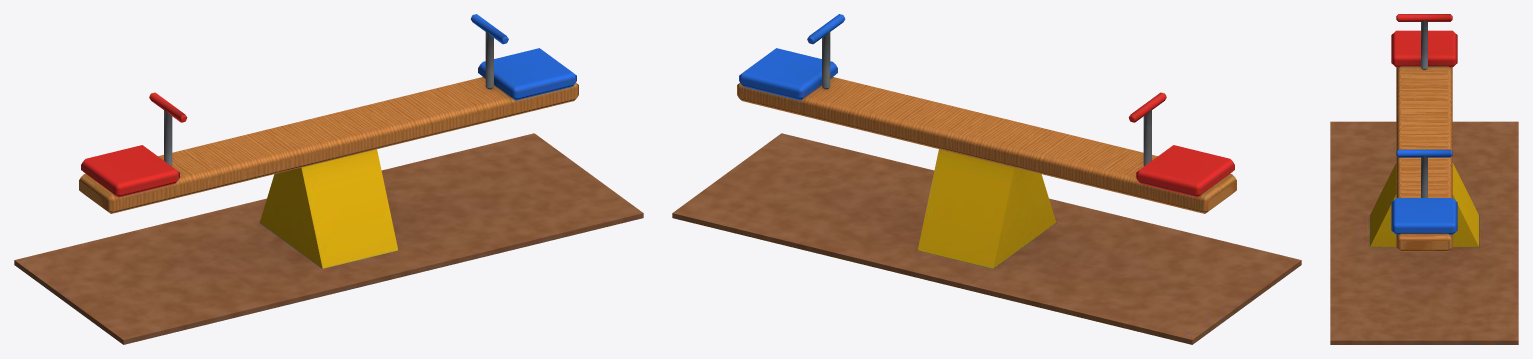
File: seesaw.glb
The picture shows the model from 3 angles, left to right: view 1: azimuth 30°, elevation 25°; view 2: azimuth 150°, elevation 25°; view 3: azimuth 270°, elevation 25°; orthographic projection. The views are drawn at different scales.
Parts seen in each view (by area): view 1: seesaw, swayZ_plank; view 2: seesaw, swayZ_plank; view 3: seesaw, swayZ_plank.
Boxes of the visible parts, x1,y1,x2,y2 form: seesaw: (14,133,643,344); swayZ_plank: (79,14,578,213); seesaw: (672,133,1301,344); swayZ_plank: (737,14,1236,213); seesaw: (1330,121,1518,344); swayZ_plank: (1391,14,1457,251).
Size of the model in its own units: 1.1 by 0.3575 by 0.4.
1 material, 1 textured.
